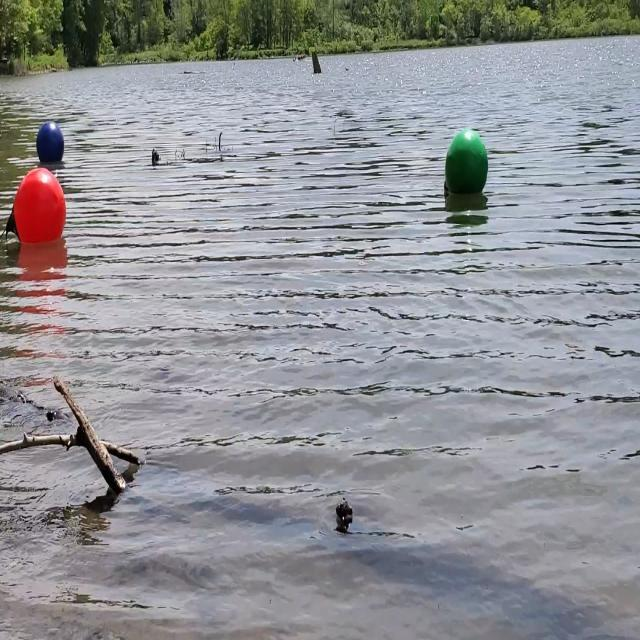buoy: (1, 168, 68, 256), (444, 126, 489, 204), (36, 119, 66, 168)
